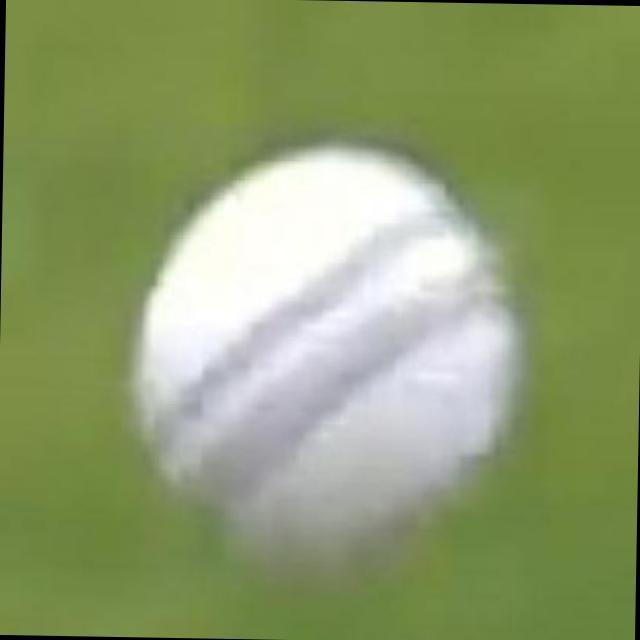-: (127, 156, 518, 537)
